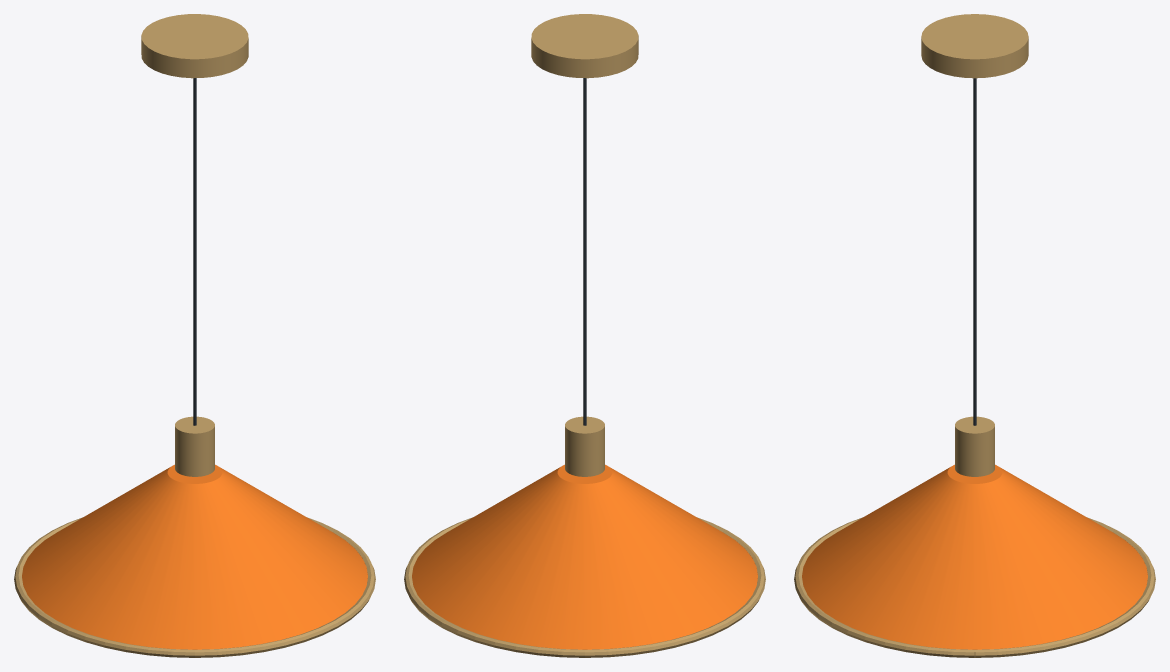
Rendered from kitchen-pendant-dome.glb.
3 views of the same model, side by side, from view 1: azimuth 30°, elevation 25°; view 2: azimuth 150°, elevation 25°; view 3: azimuth 270°, elevation 25° (orthographic).
Parts seen in each view (by area): view 1: catalog_surface_RealismUV; view 2: catalog_surface_RealismUV; view 3: catalog_surface_RealismUV.
Part boxes in pixels (x1,y1,x2,y2): catalog_surface_RealismUV: [14, 14, 375, 657]; catalog_surface_RealismUV: [404, 14, 765, 657]; catalog_surface_RealismUV: [794, 14, 1155, 657].
Bounding box in the file's own units: 0.42 × 0.7 × 0.42.
